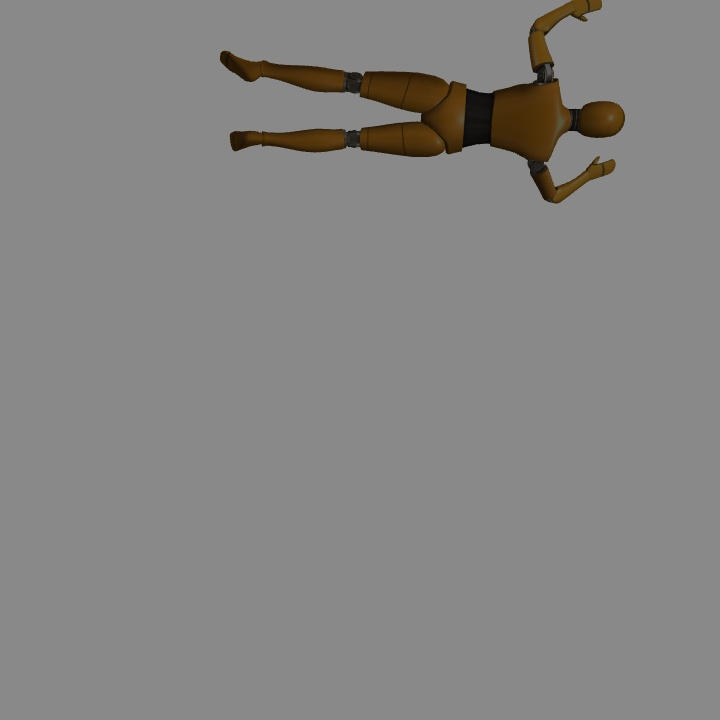victim: (224, 30, 626, 196)
